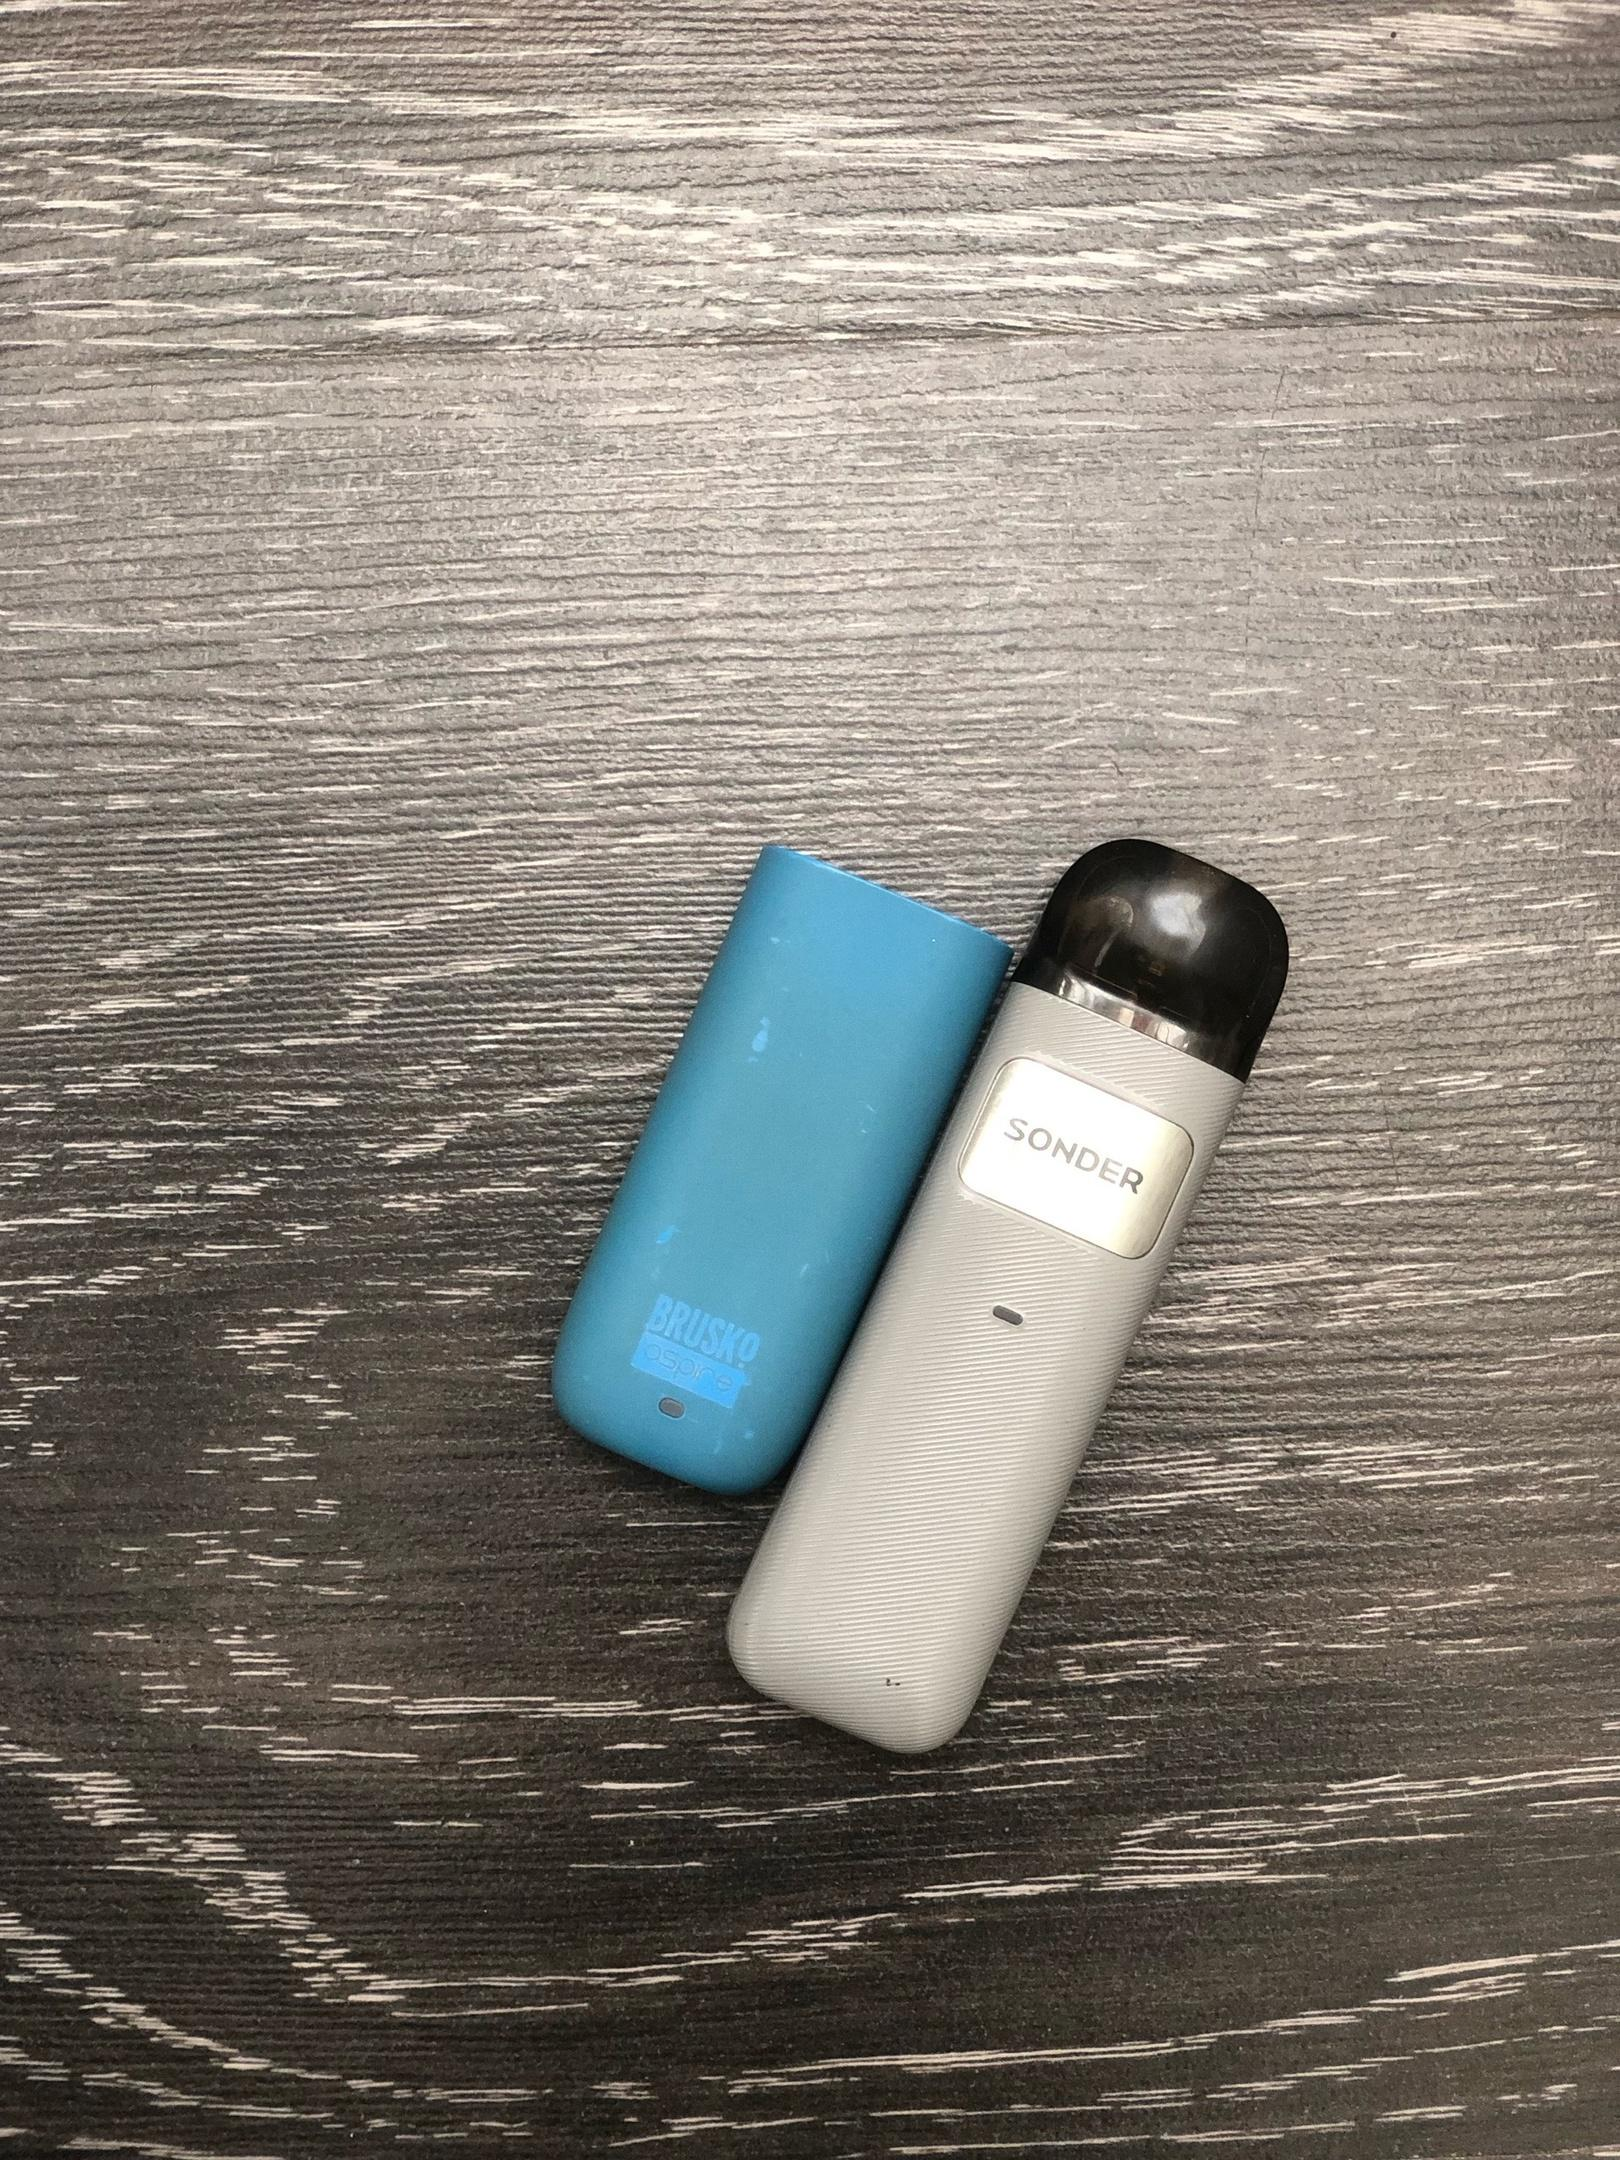Vape: (728, 838, 1286, 1754)
